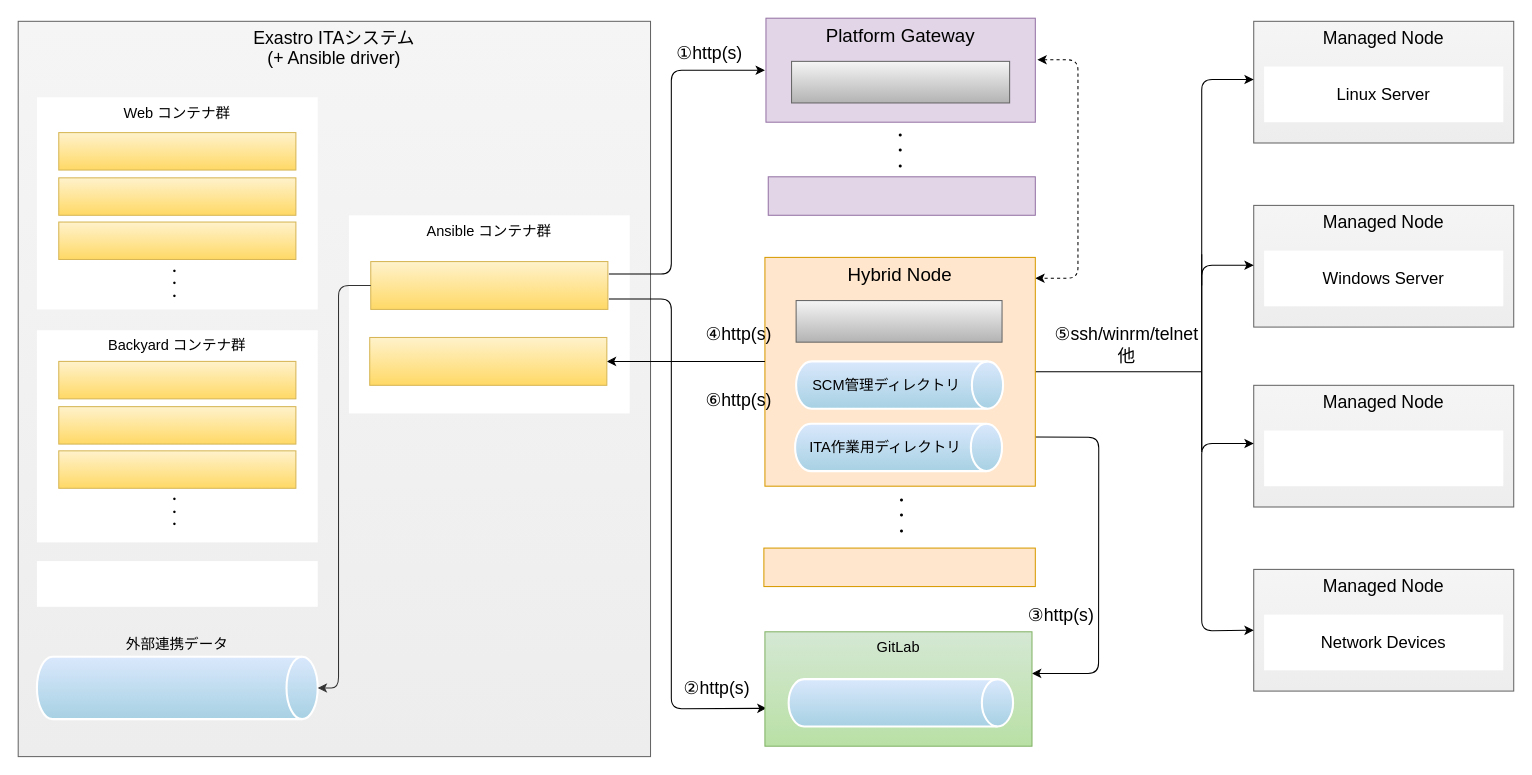
Image size: 1532x775. Some labels were removed from this diagram. The shapes that lost their labels are listed below. From the top down, each one's centre as x and y in pixels, then its label:
At point 900,81: "認証・API集約".
At point 489,285: "ita--by-ansible-execute".
At point 898,321: "ExecutionEnvironment".
At point 488,360: "ita-api-ansible-execution-receiver".
At point 1383,458: "Cloud Resources".
At point 176,583: "DBMS機能".
At point 176,687: "データリレイトレージ (IN/OUT)".
At point 900,702: "Gitレポジトリ".
